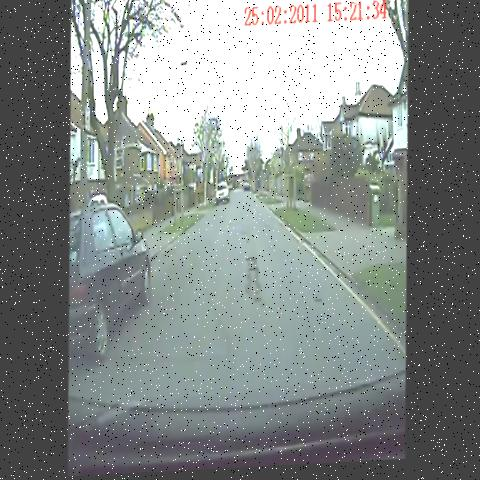pothole: (241, 253, 274, 317), (307, 289, 326, 314)
